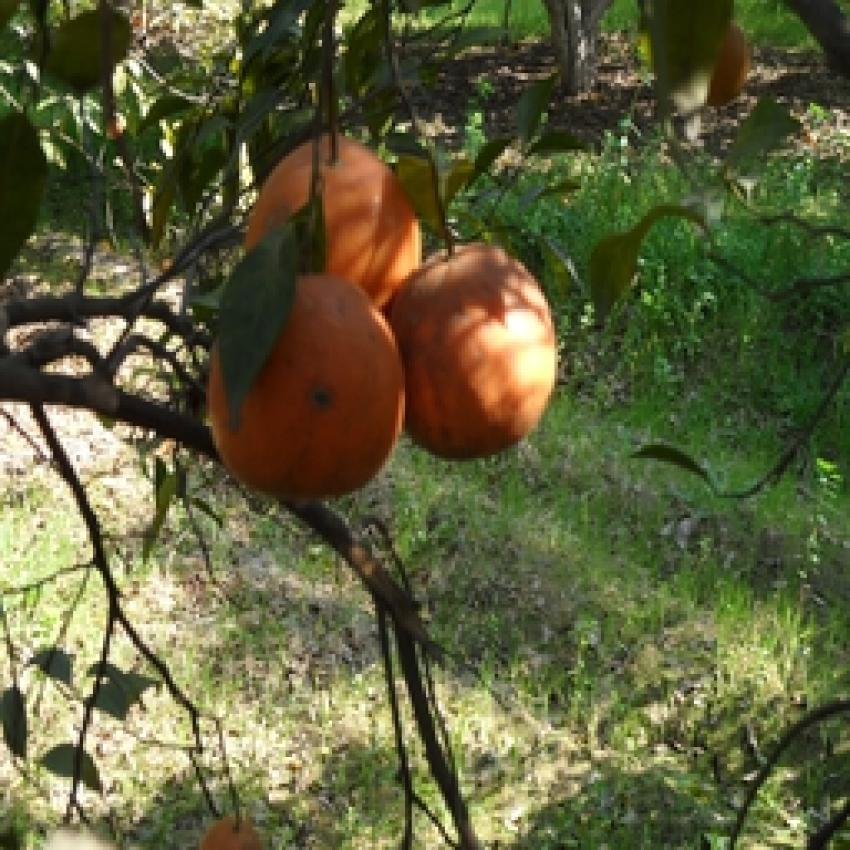Mal estado: (203, 271, 416, 500), (388, 246, 566, 455), (246, 134, 428, 302)
